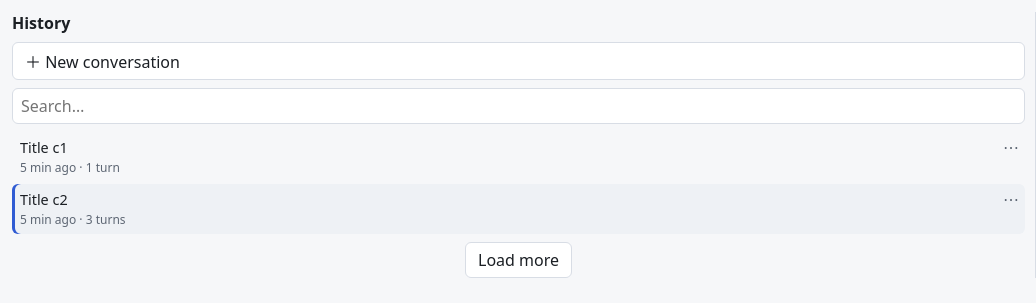
Scenario: HistorySidebar › debounces search and loads more pages
The image size is (1036, 303).
Click the button "Load more": {"x": 518, "y": 260} [465,242,572,278]
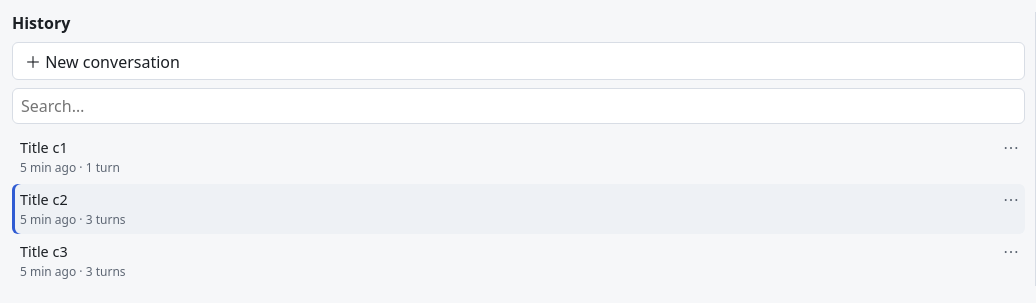
Check: the number of list items with test id "history-item" is 3, box [12,132,1025,182]; [12,184,1025,234]; [12,236,1025,286]
Check: the button "Load more" is gone
In the search field named "Search conversations": {"x": 518, "y": 106} [12,88,1025,124], type "fee"
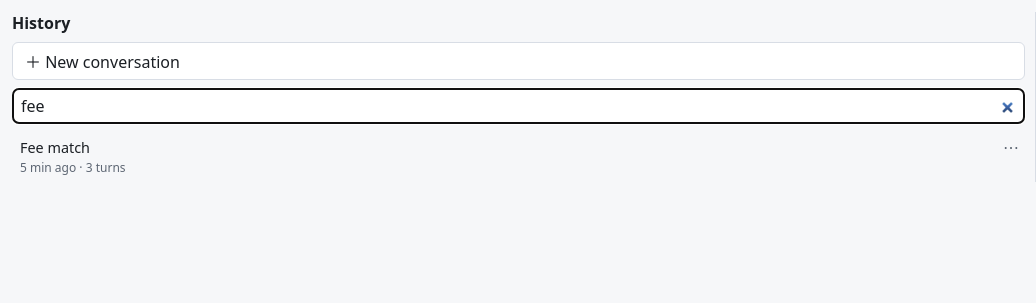
Check: the text "Fee match" is shown, box [20,138,90,157]
